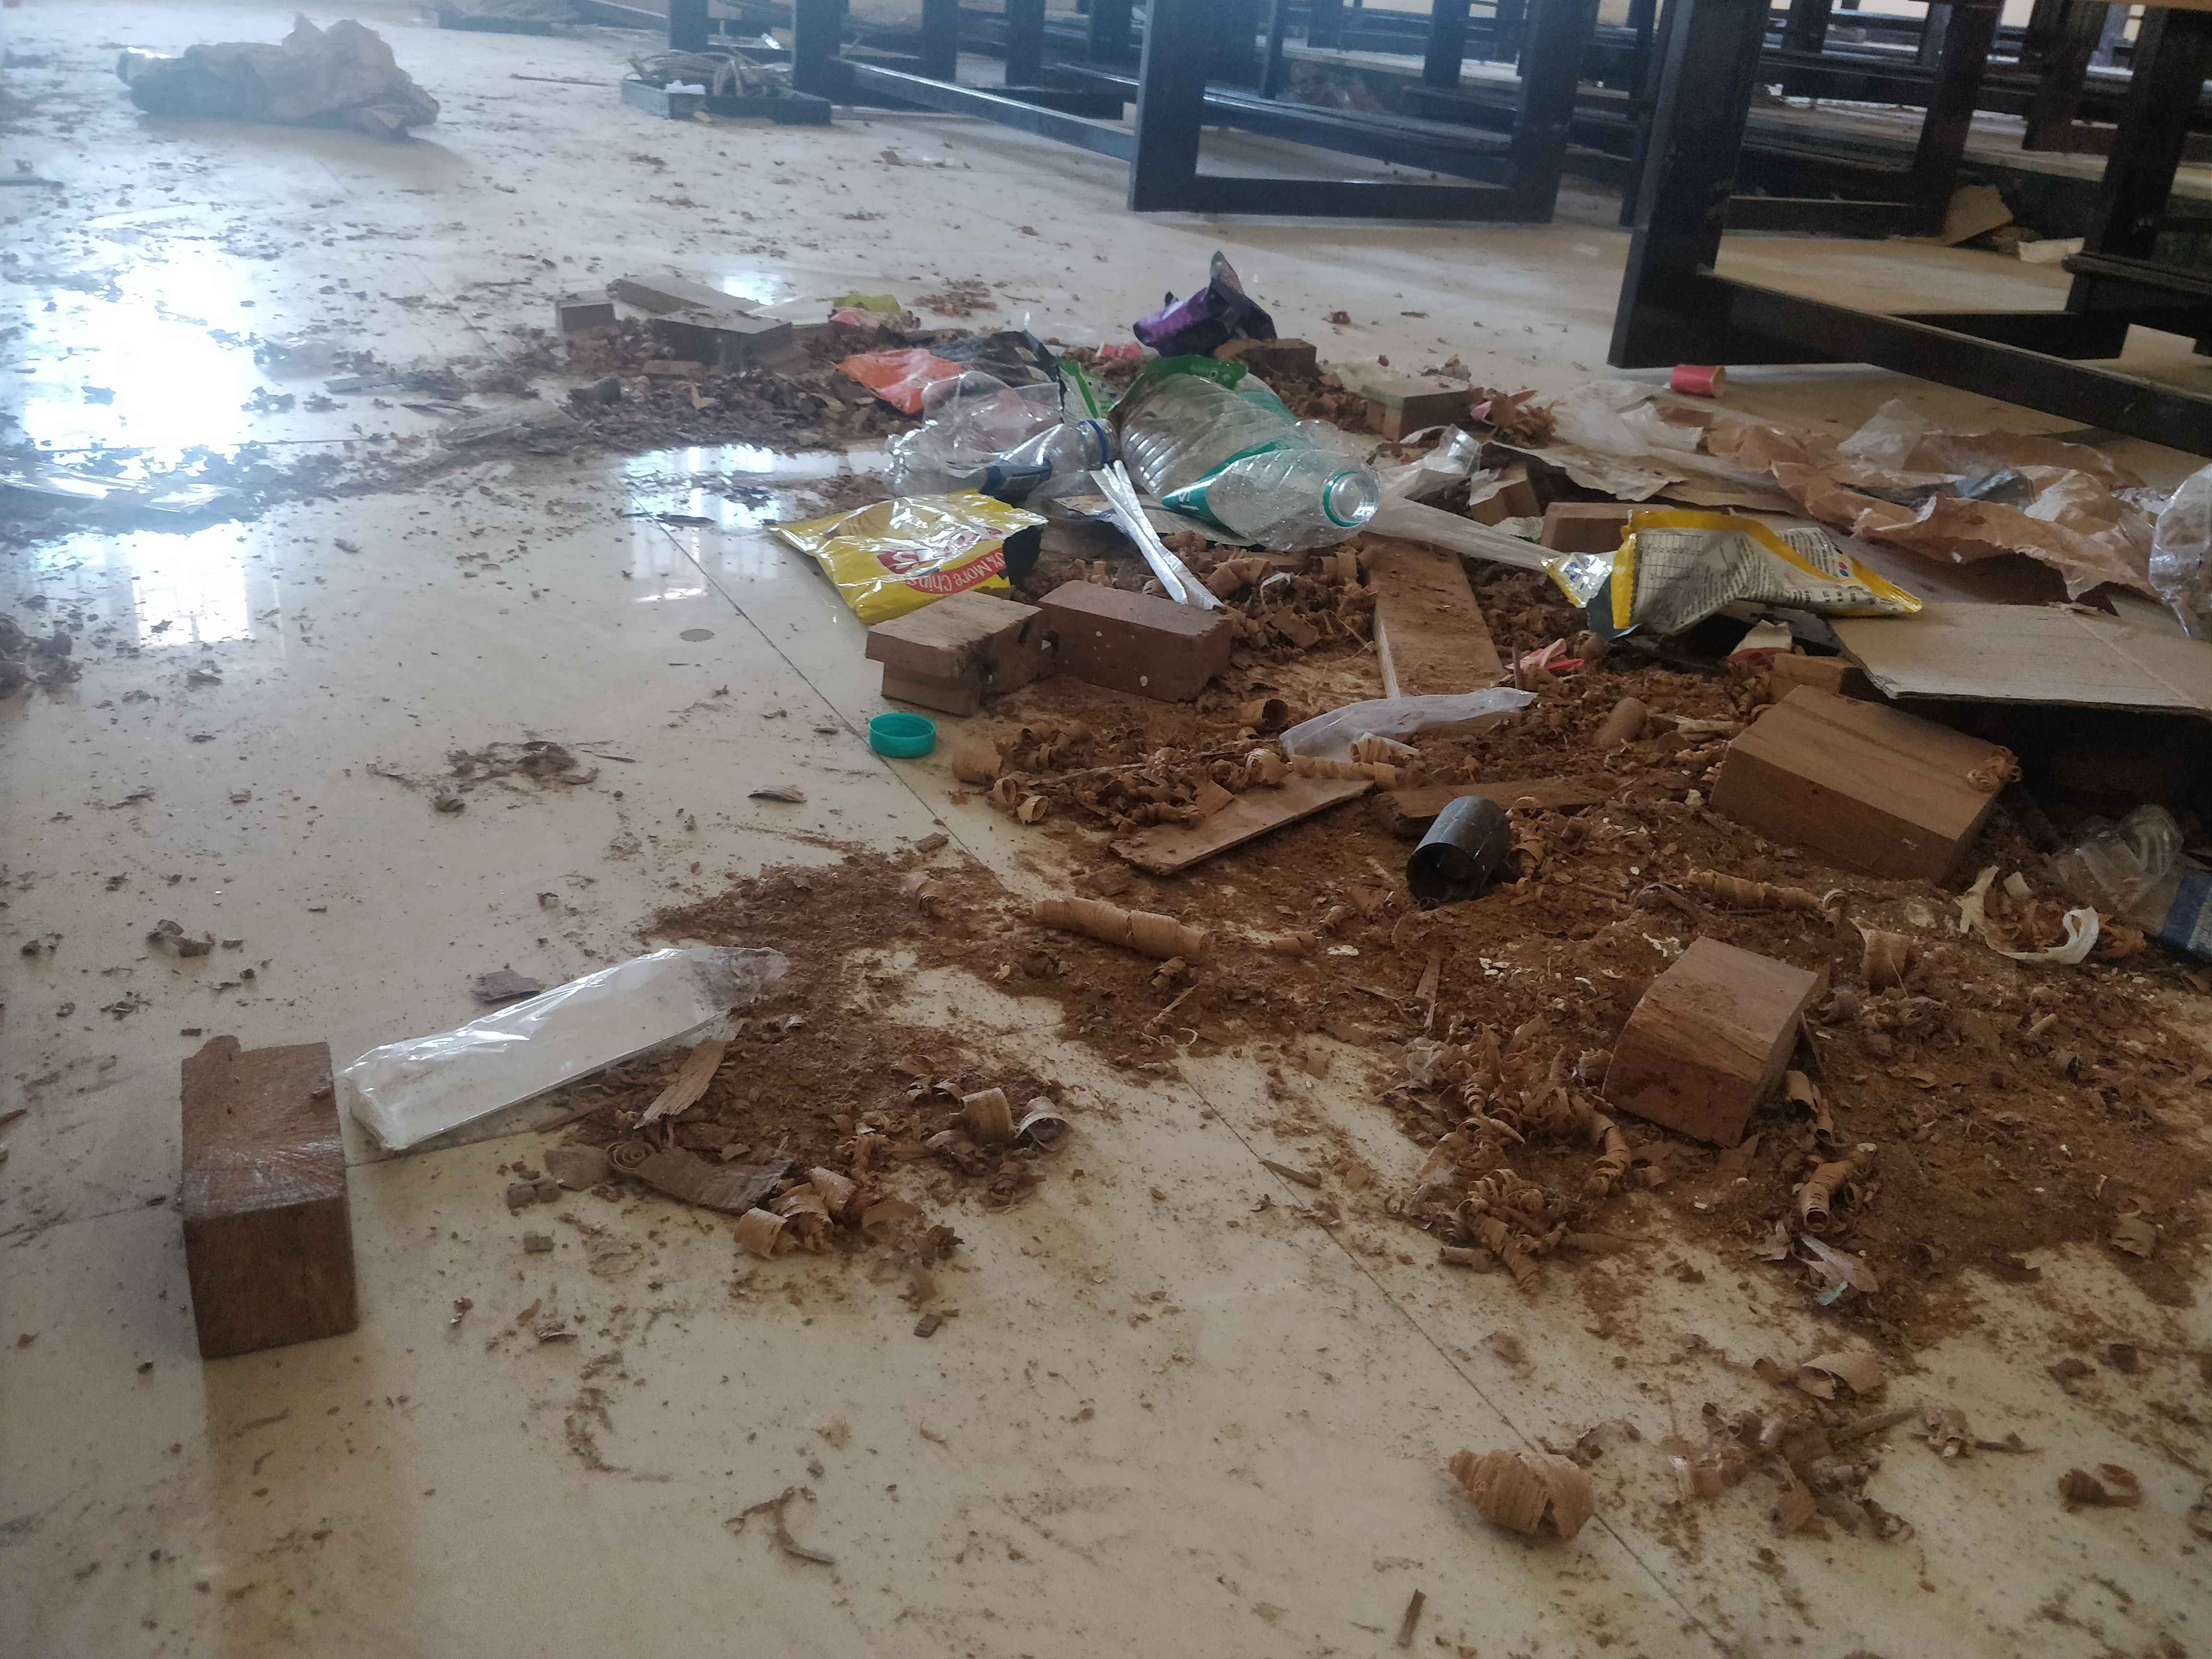Lays: (871, 511, 1015, 592)
